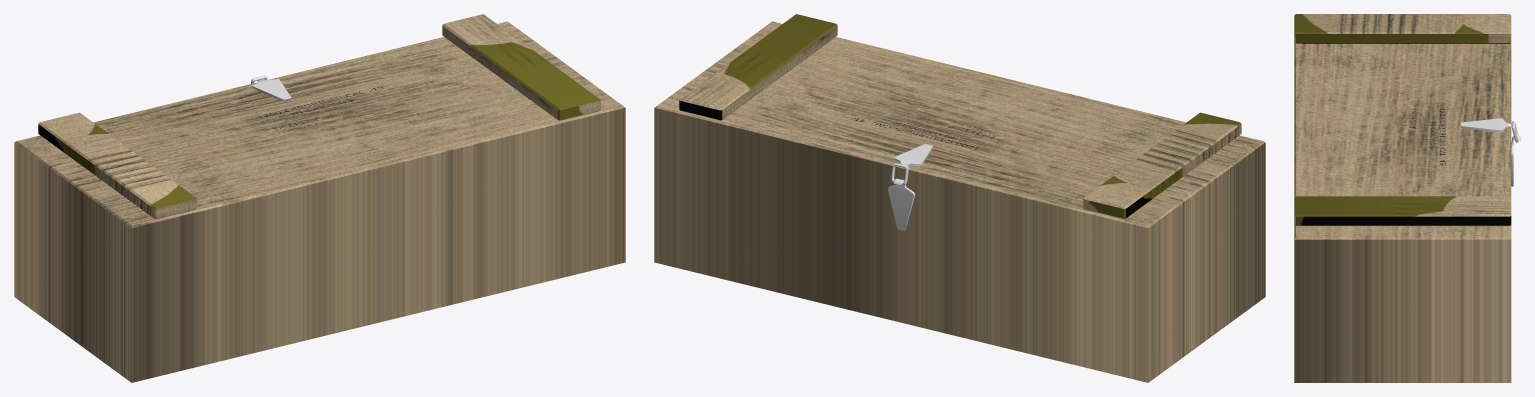
Rendered from collider skrzynia.fbx.
The picture shows the model from 3 angles, left to right: view 1: azimuth 30°, elevation 25°; view 2: azimuth 150°, elevation 25°; view 3: azimuth 270°, elevation 25°; orthographic projection. The views are drawn at different scales.
Visible parts, largest first — view 1: collider; view 2: collider; view 3: collider.
Part boxes in pixels (bbox=[...]): collider: bbox=[14, 14, 625, 382]; collider: bbox=[654, 14, 1265, 382]; collider: bbox=[1294, 14, 1520, 382].
Size of the model in its own units: 150 by 49.26 by 64.41.
